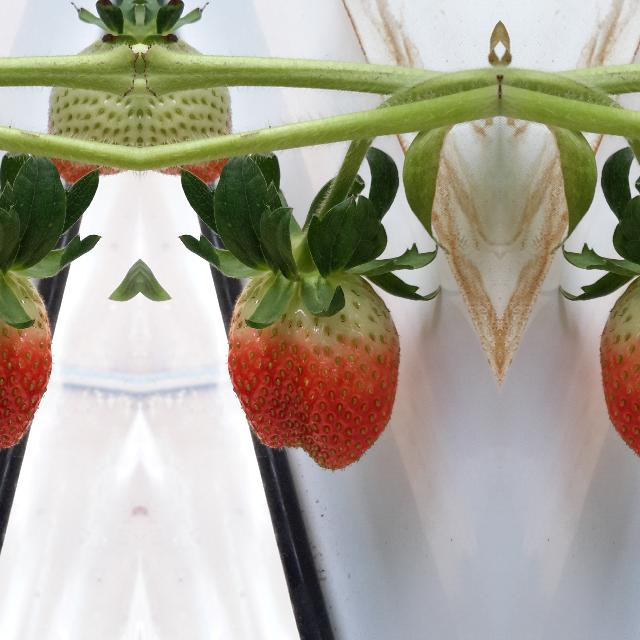Health_50: (140, 37, 252, 181), (28, 37, 140, 181)
Health_75: (226, 276, 402, 472), (0, 275, 53, 472), (598, 275, 640, 472)
